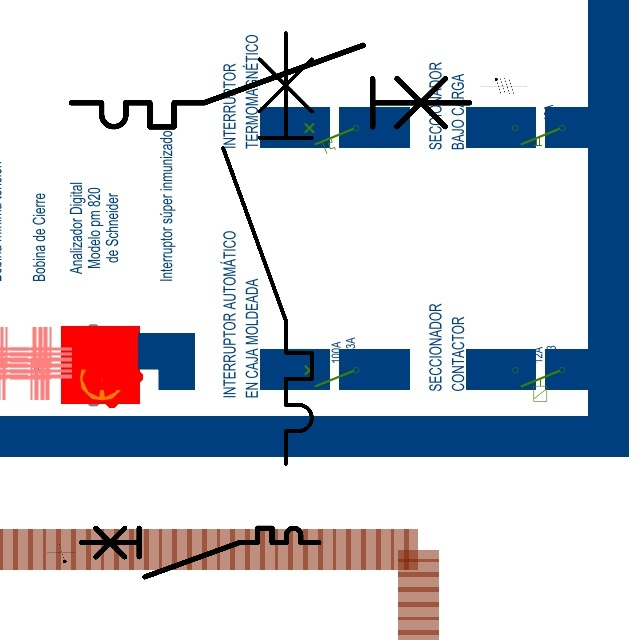interruptor_termomagnetico: (212, 22, 323, 475), (61, 35, 480, 137), (75, 522, 325, 583)
